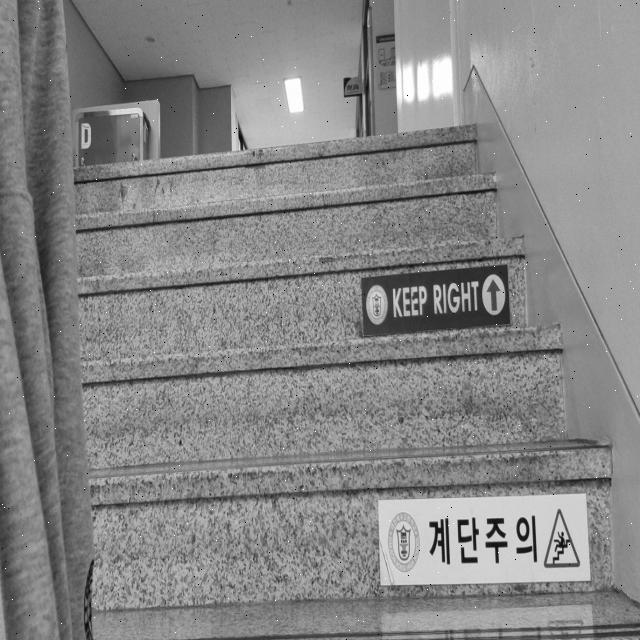logo: (384, 505, 424, 576), (364, 277, 390, 329)
